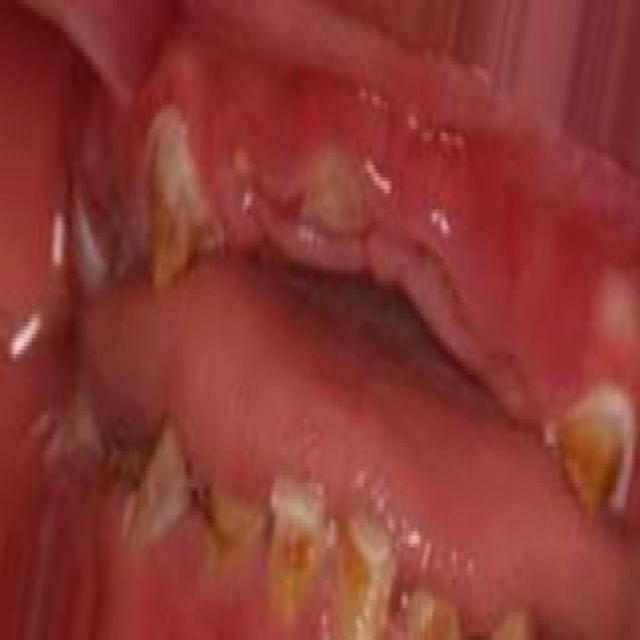caries: (543, 366, 640, 532), (142, 114, 228, 299), (101, 394, 188, 556), (266, 466, 328, 629), (330, 496, 400, 640), (66, 177, 129, 305), (196, 468, 264, 577), (403, 567, 462, 640)
